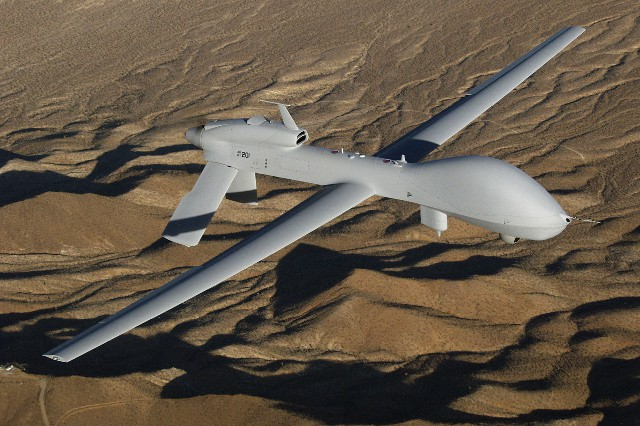maybay_khongnguoilai: (43, 21, 571, 369)
